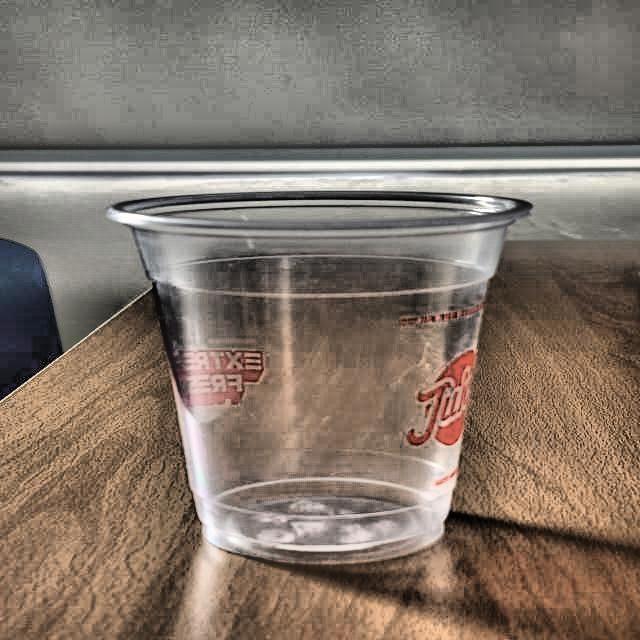plastic cup: (102, 188, 536, 568)
